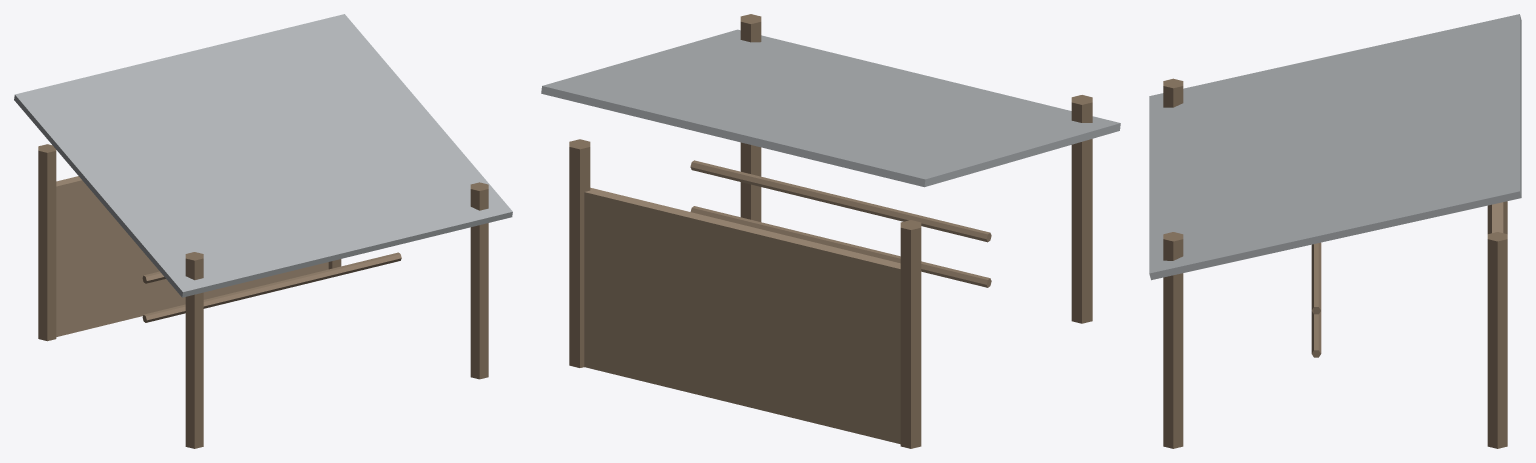
The model's file is fishing_hut.glb.
3 renders of one model, left to right at view 1: azimuth 30°, elevation 25°; view 2: azimuth 150°, elevation 25°; view 3: azimuth 270°, elevation 25°, orthographic. The views are drawn at different scales.
Visible parts, largest first — view 1: geometry_0; view 2: geometry_0; view 3: geometry_0.
Boxes of the visible parts, x1,y1,x2,y2 form: geometry_0: (14, 14, 512, 448); geometry_0: (541, 14, 1120, 448); geometry_0: (1149, 14, 1521, 448).
Bounding box in the file's own units: 4.4 × 3.06 × 3.9.
